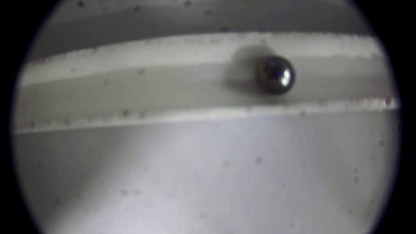gangzhu: (254, 53, 297, 96)
